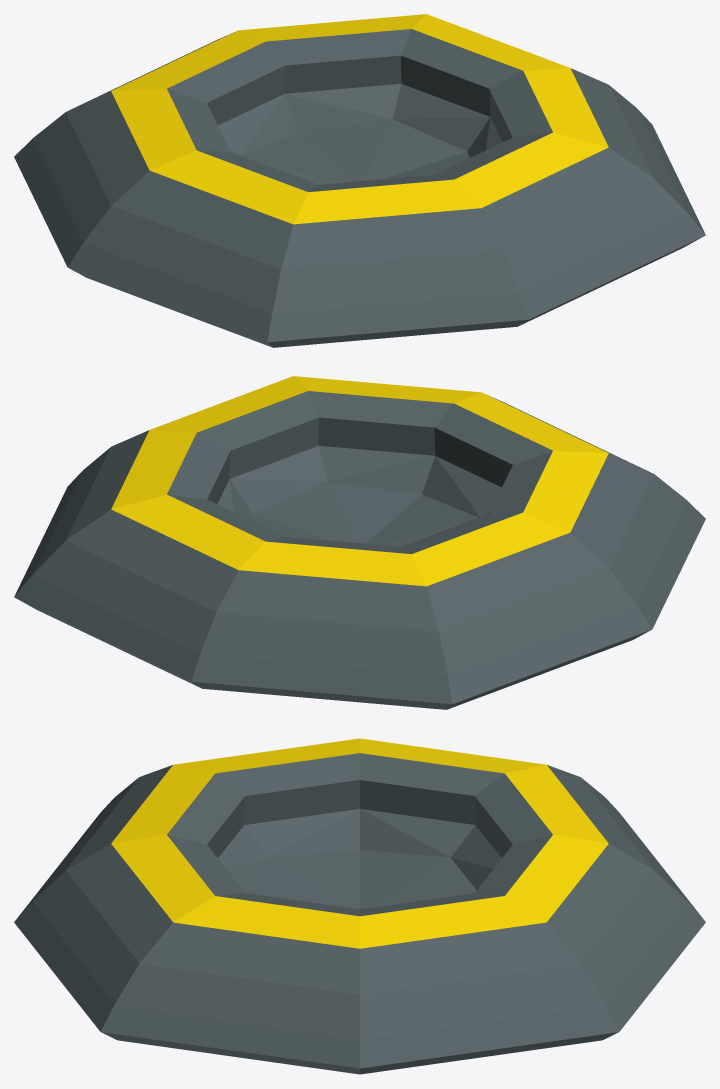
The model's file is SwitchYellow.fbx.
The picture shows the model from 3 angles, top to bottom: view 1: azimuth 30°, elevation 25°; view 2: azimuth 150°, elevation 25°; view 3: azimuth 270°, elevation 25°; orthographic projection. The views are drawn at different scales.
Parts seen in each view (by area): view 1: SwitchYellow; view 2: SwitchYellow; view 3: SwitchYellow.
Part boxes in pixels (box(x1,y1,x2,y2)): SwitchYellow: box(14, 14, 705, 347); SwitchYellow: box(14, 376, 705, 709); SwitchYellow: box(14, 738, 705, 1074).
Size of the model in its own units: 285 by 57.93 by 285.
